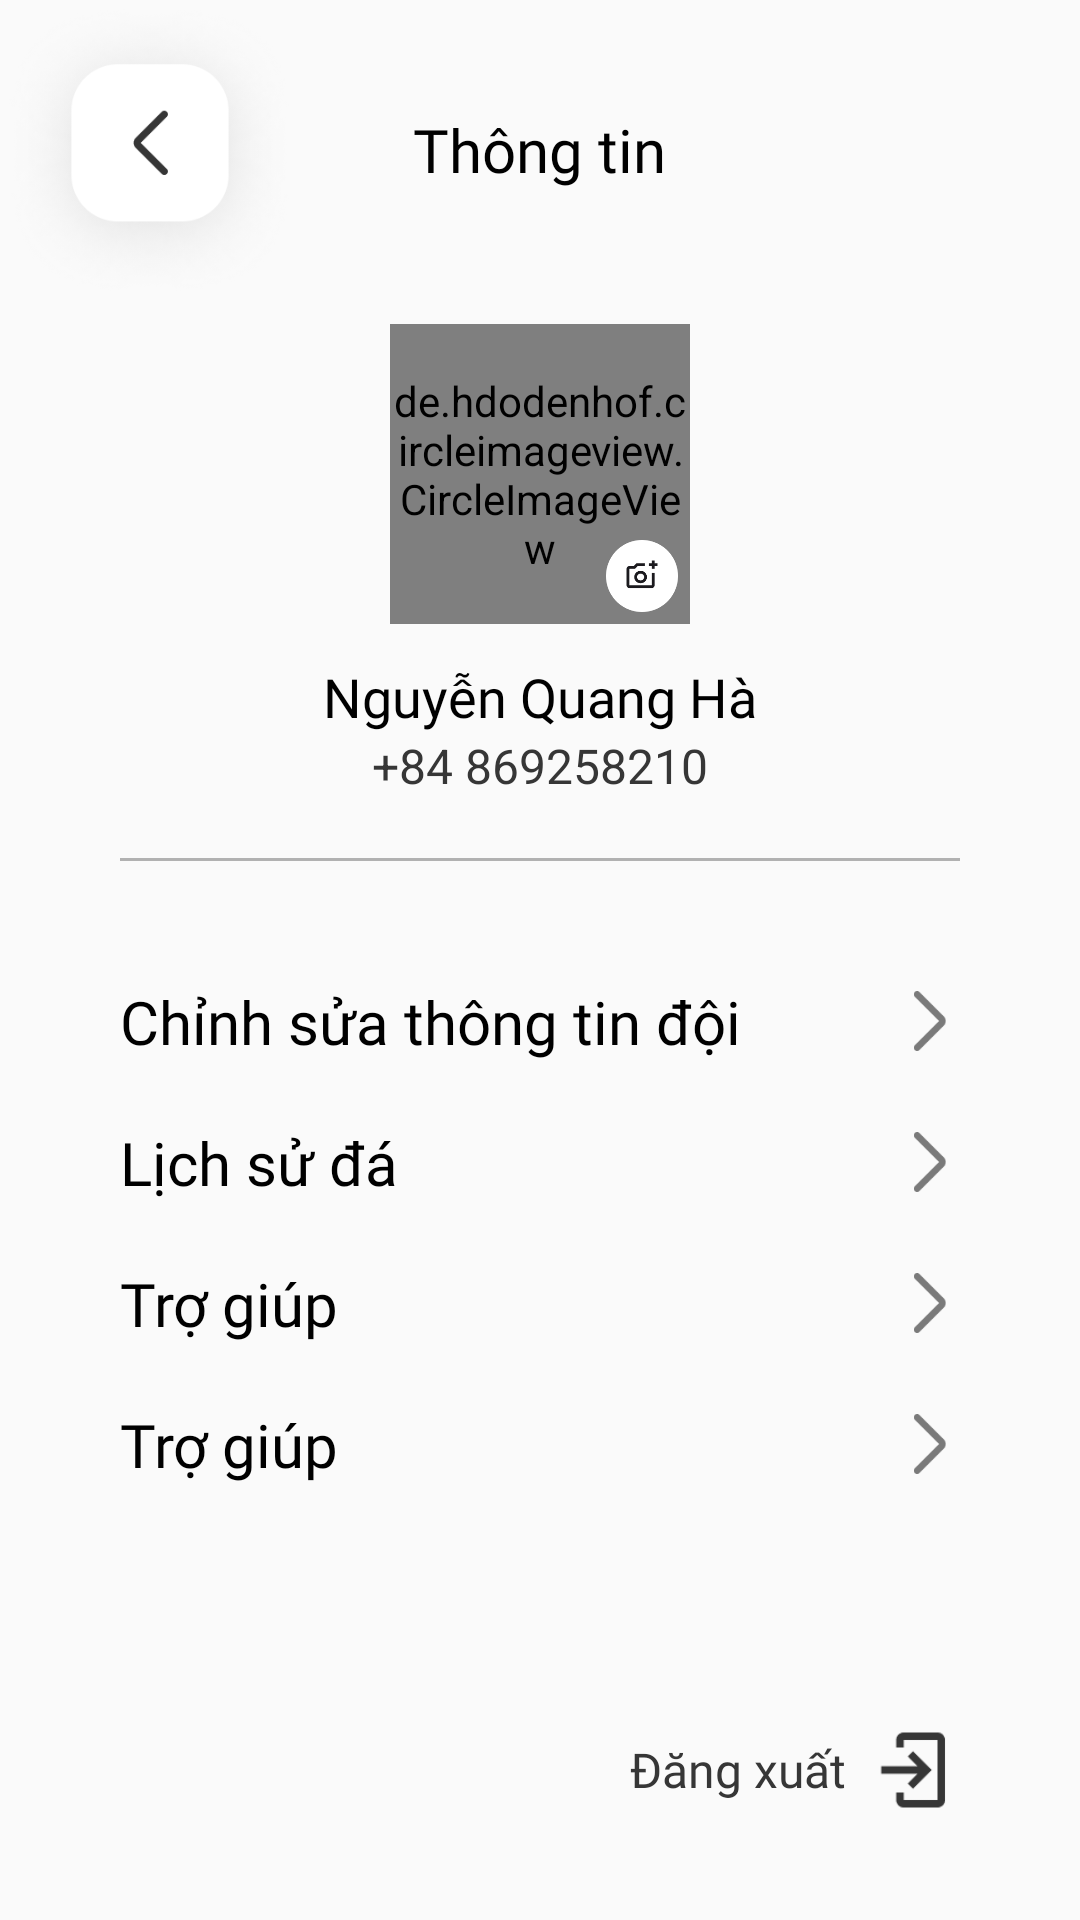

Point at icon controls on the screen. Image size 1080 x 1920, points as (x=x, y=y).
add photo: (x=642, y=576)
back: (x=150, y=142)
log out: (x=912, y=1770)
